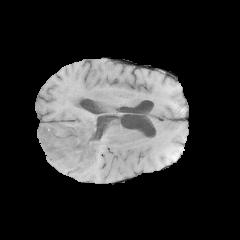glioma: (37, 101, 103, 175)
